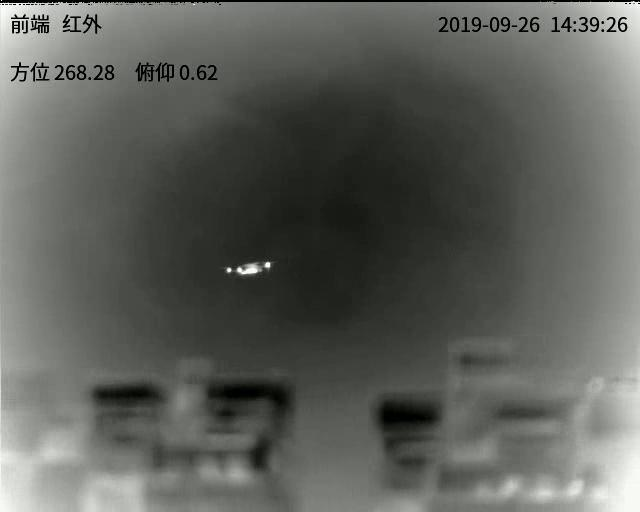DRONE: (224, 259, 273, 276)
